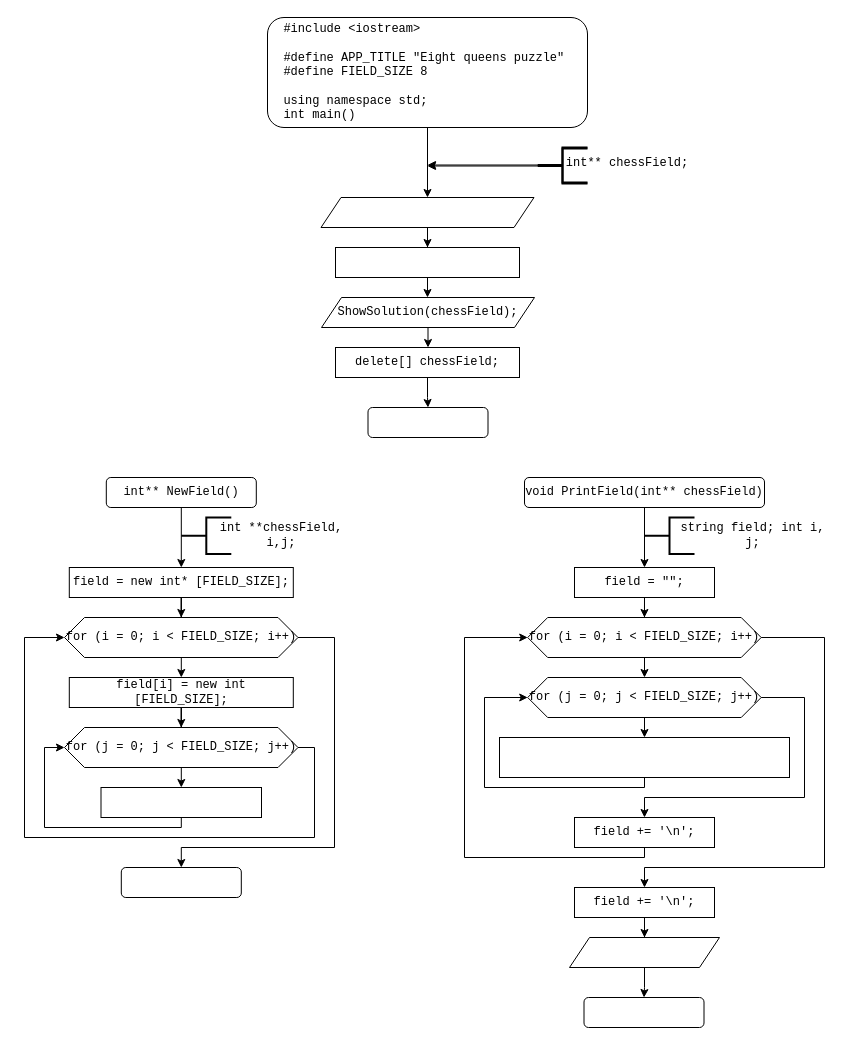
Some shapes in this 850 by 1045 pixel diagram are drawn without their labels. Each missing label, with the centre of its shape:
chessField = NewField();: (x=427, y=262)
cout << APP_TITLE << endl;: (x=427, y=212)
cout << field;: (x=644, y=952)
field += (chessField[i][j] == -1)? "Q " : (chessField[i][j] > 0)? "* " : ". ";: (x=644, y=757)
field[i][j] = 0;: (x=181, y=802)
return 0;: (x=427, y=422)
return field;: (x=180, y=882)
